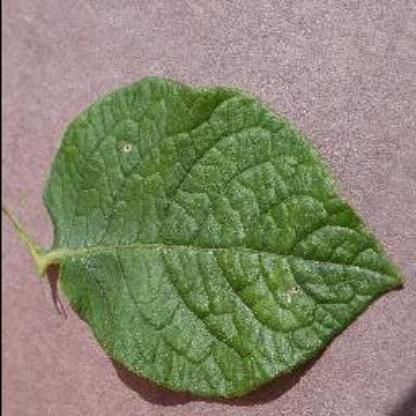Healthy-plant: (22, 68, 404, 406)
